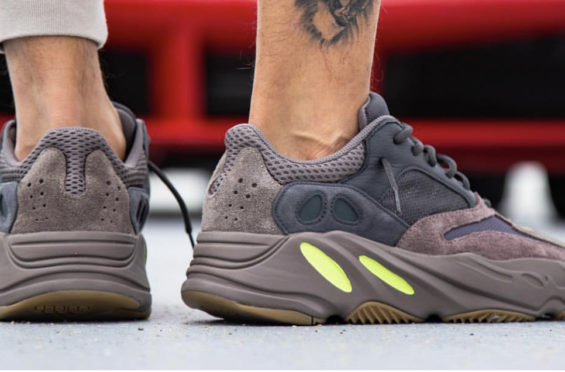adidas Yeezy 700 Mauve: (170, 91, 565, 329)
